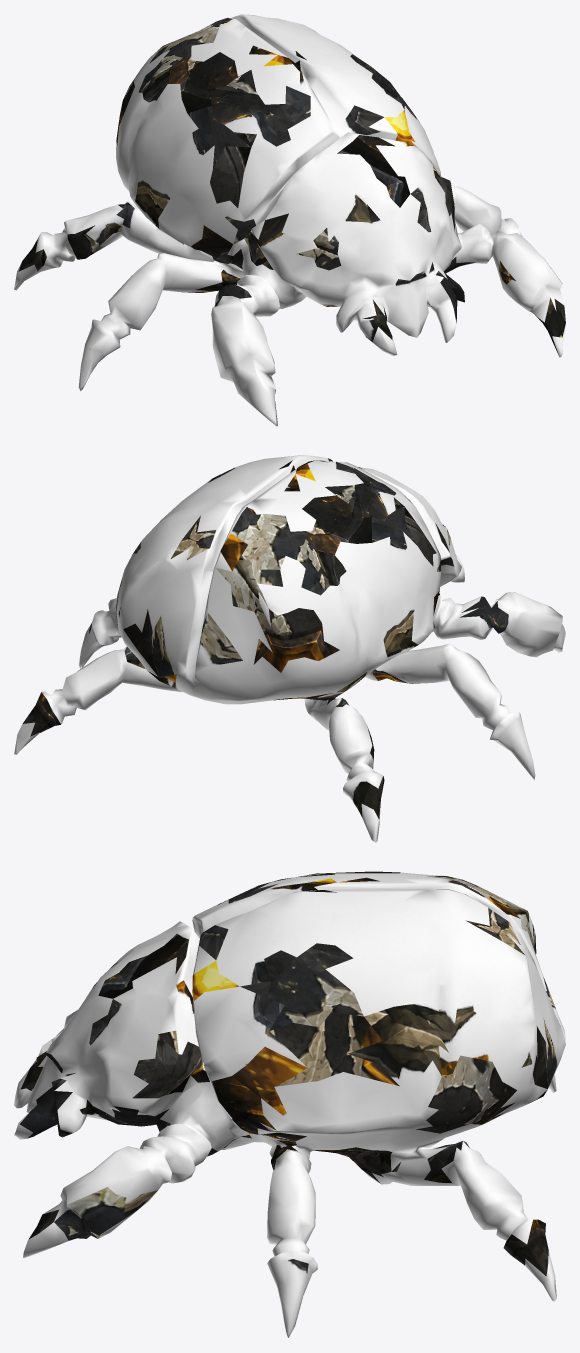
File: carrion_scarab_gold_5k.fbx
The picture shows the model from 3 angles, top to bottom: view 1: azimuth 30°, elevation 25°; view 2: azimuth 150°, elevation 25°; view 3: azimuth 270°, elevation 25°; orthographic projection. The views are drawn at different scales.
Parts seen in each view (by area): view 1: carrion_scarab_gold_decimated; view 2: carrion_scarab_gold_decimated; view 3: carrion_scarab_gold_decimated.
Boxes of the visible parts, x1=… form: carrion_scarab_gold_decimated: x1=14, y1=14, x2=565, y2=426; carrion_scarab_gold_decimated: x1=14, y1=455, x2=565, y2=842; carrion_scarab_gold_decimated: x1=14, y1=871, x2=565, y2=1337.
Bounding box in the file's own units: 1.91 × 1.08 × 1.68.
